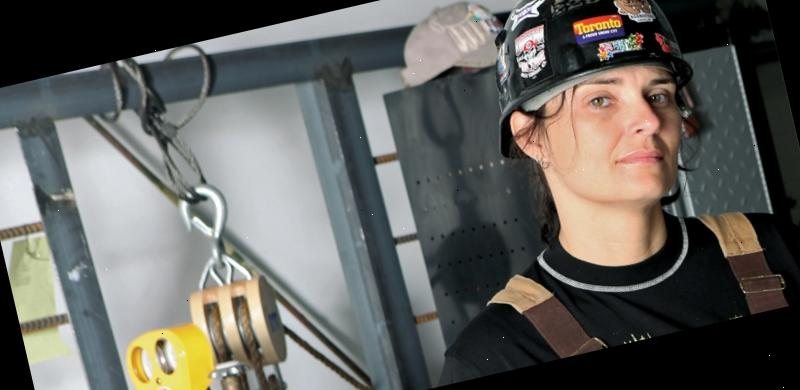helmet: (461, 0, 706, 164)
no_wear: (426, 187, 800, 383)
